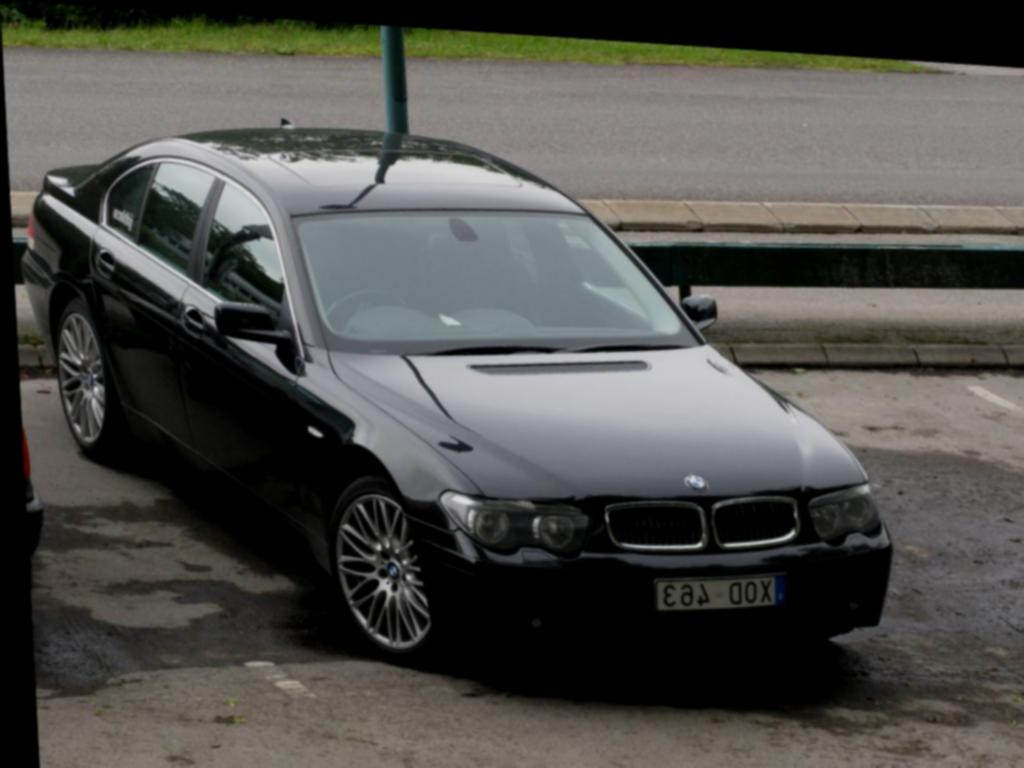License_Plate: (651, 564, 792, 605)
